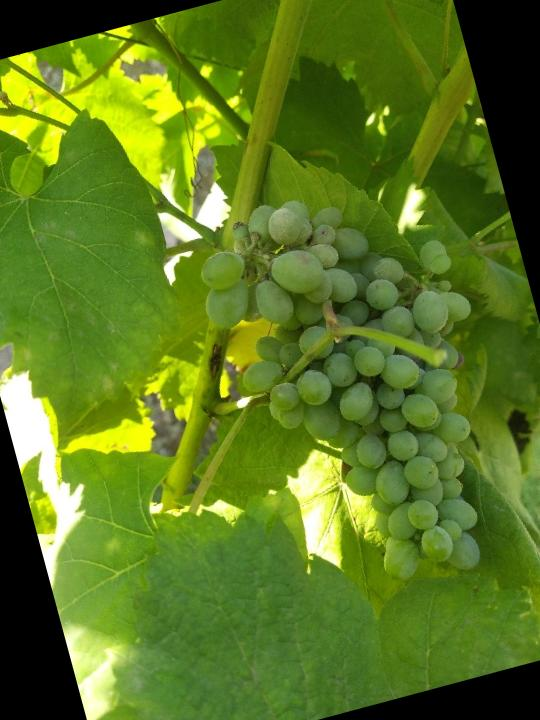grape: (182, 162, 538, 620)
